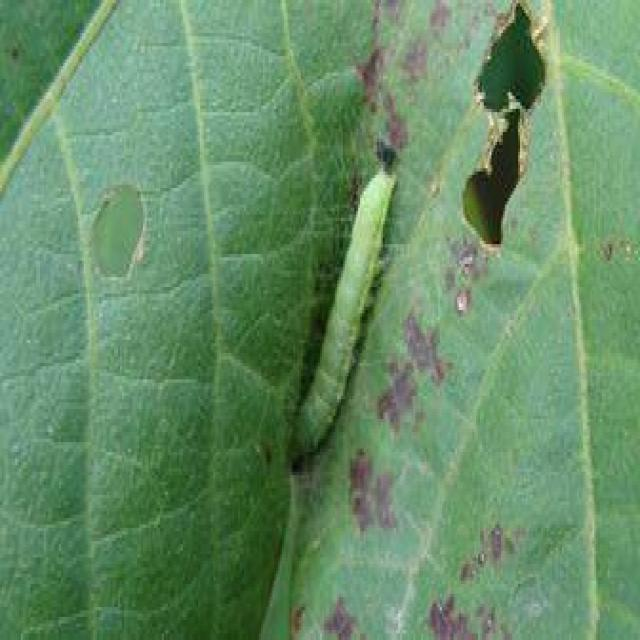BeetArmyWorm-Larva-: (276, 160, 404, 472)
